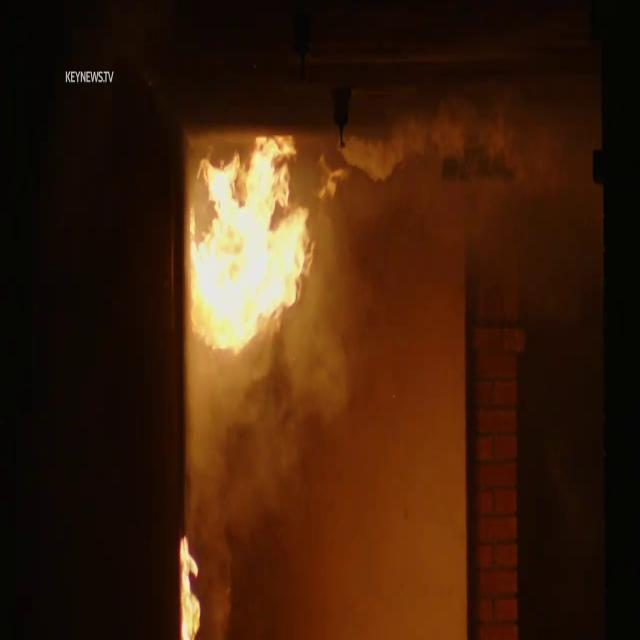Fire: (190, 131, 316, 373)
